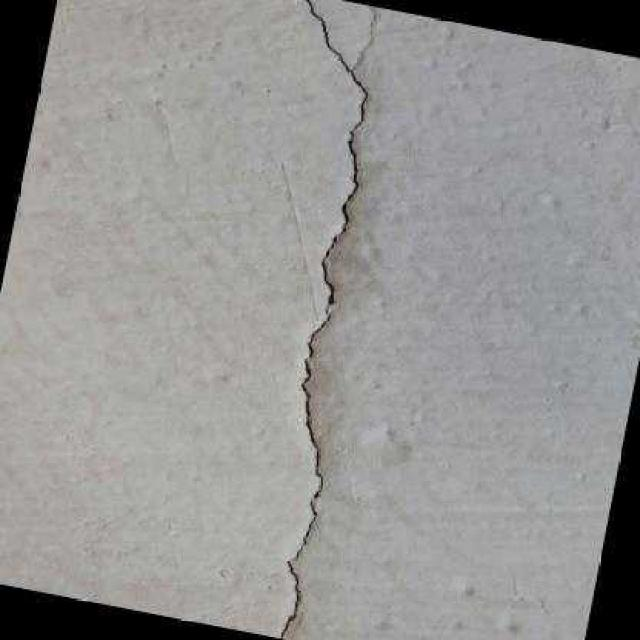D00: (276, 0, 370, 639)
